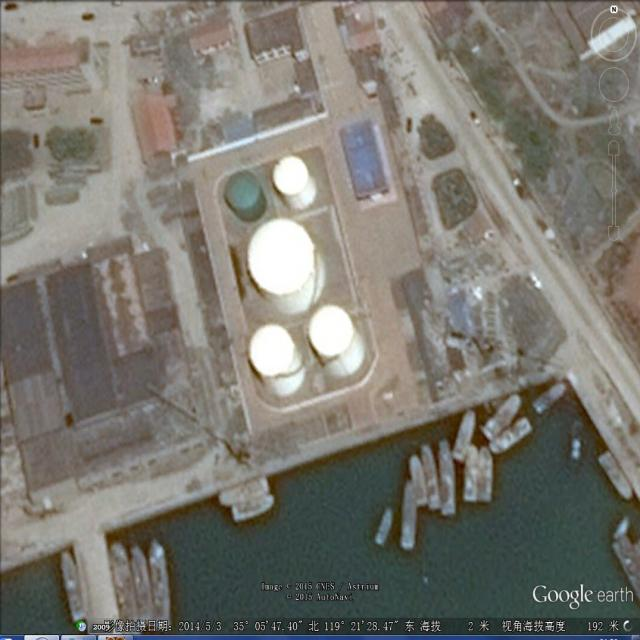oiltank: (245, 214, 329, 316), (248, 320, 310, 398), (306, 305, 368, 382), (271, 153, 320, 214), (222, 168, 269, 224)
